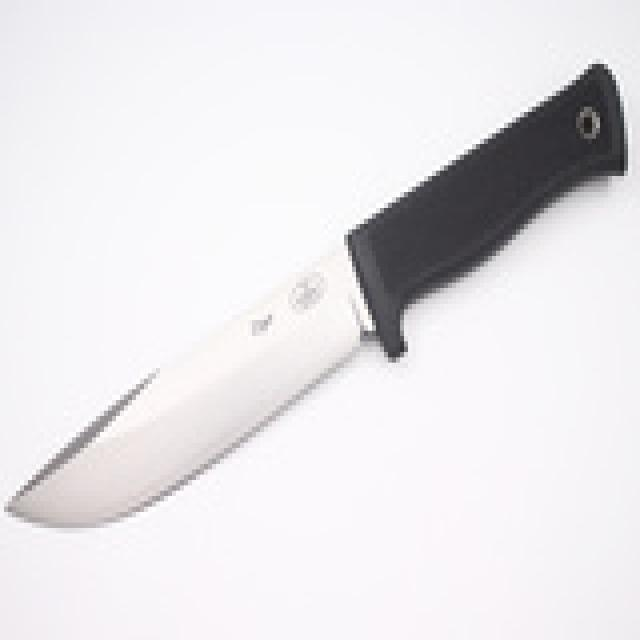Knife: (10, 70, 631, 550)
